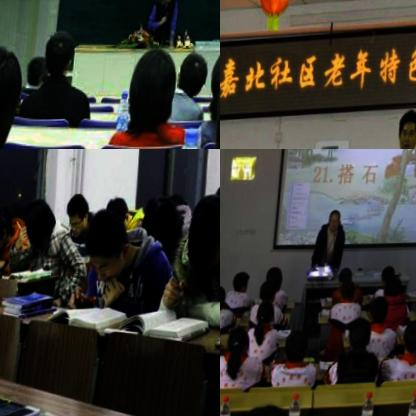head: (131, 45, 182, 121), (84, 209, 134, 281), (182, 190, 220, 275), (139, 191, 179, 251), (0, 43, 25, 137), (43, 29, 81, 78), (22, 196, 58, 245), (181, 47, 213, 95), (63, 192, 90, 238), (104, 193, 135, 233), (285, 327, 314, 364), (348, 318, 377, 352), (28, 48, 53, 87), (230, 325, 255, 355), (397, 110, 416, 149), (370, 298, 392, 329), (235, 265, 255, 296), (211, 43, 220, 107), (261, 278, 281, 304), (261, 299, 280, 326), (387, 278, 407, 302), (269, 266, 287, 291), (0, 212, 10, 253), (342, 279, 359, 303), (404, 320, 416, 354), (384, 265, 401, 286), (328, 209, 344, 230), (340, 265, 356, 286), (220, 285, 230, 307)
